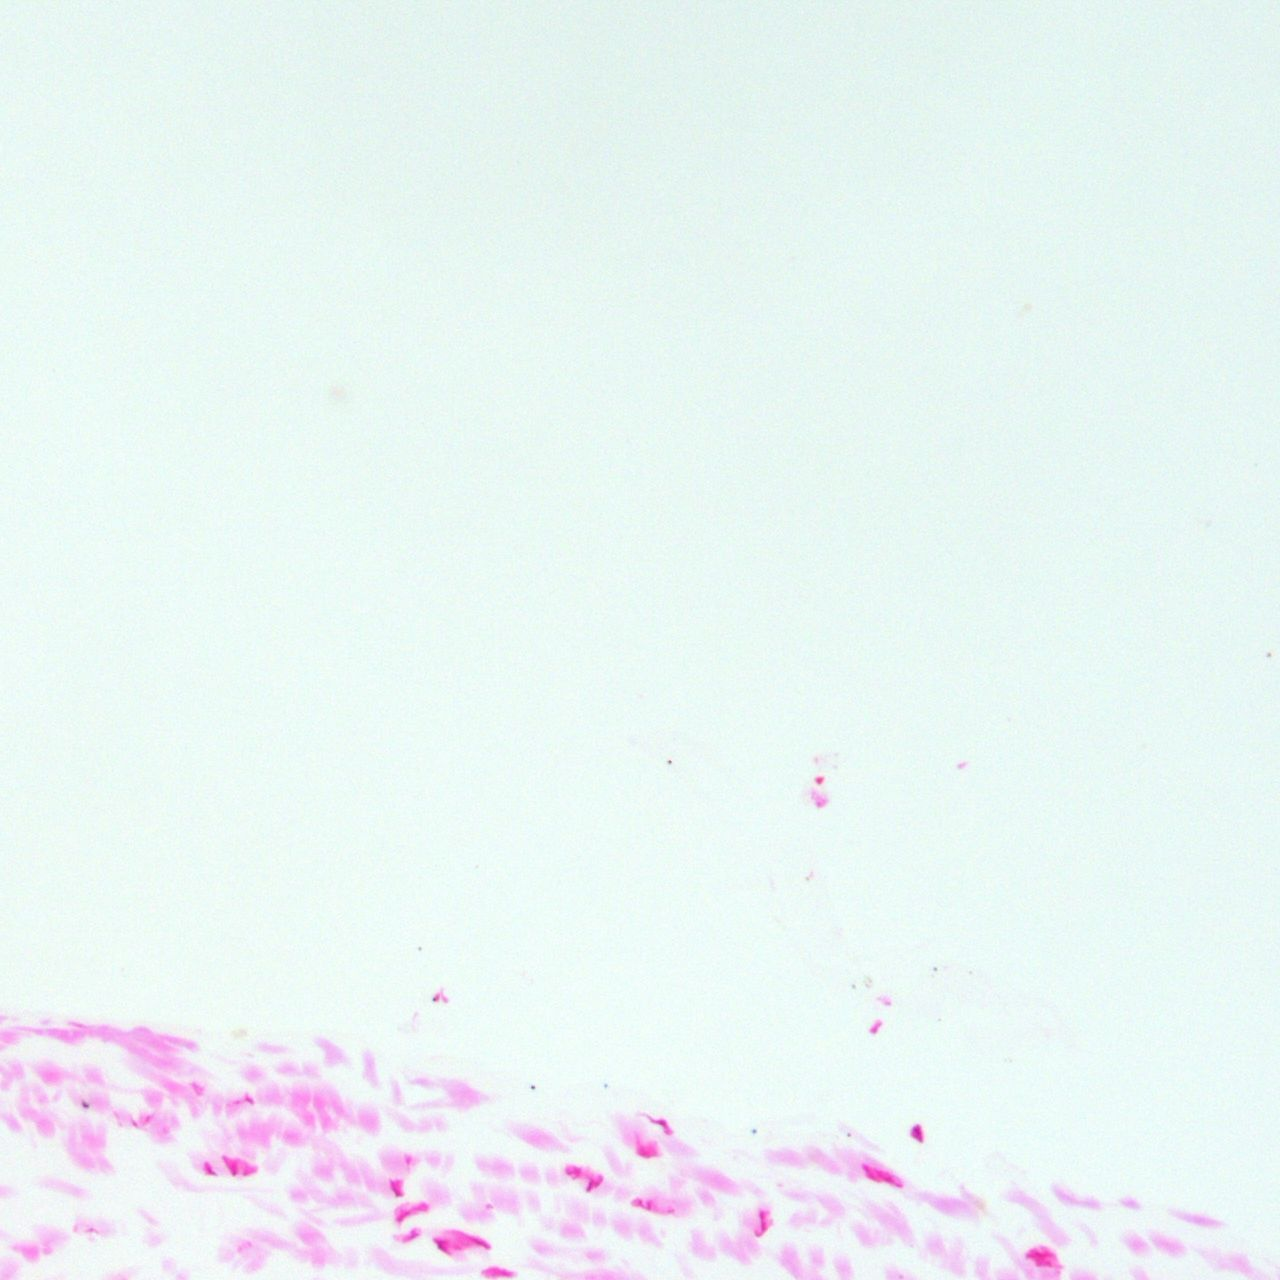dust: (82, 1099, 88, 1108), (474, 862, 479, 869), (1265, 651, 1271, 658), (851, 982, 856, 990), (751, 1128, 757, 1133), (529, 1084, 535, 1089), (932, 965, 937, 971), (667, 758, 670, 765), (602, 1083, 607, 1088), (846, 1132, 850, 1138), (433, 998, 437, 1001), (417, 946, 421, 951)
nucleus-FG: (644, 1109, 672, 1133), (468, 1233, 492, 1250), (433, 1237, 451, 1258), (754, 1208, 768, 1237), (222, 1155, 237, 1178), (859, 1162, 876, 1182), (908, 1123, 924, 1143), (881, 1175, 901, 1189), (1024, 1251, 1057, 1259), (493, 1268, 515, 1278), (396, 1210, 411, 1223), (636, 1151, 658, 1159), (390, 1184, 402, 1198), (245, 1096, 256, 1107), (870, 1024, 879, 1034), (585, 1182, 593, 1192), (206, 1169, 218, 1175), (410, 1230, 418, 1238), (636, 1198, 644, 1207), (646, 1200, 651, 1211), (593, 1182, 600, 1187), (567, 1170, 576, 1175), (243, 1172, 250, 1176)
